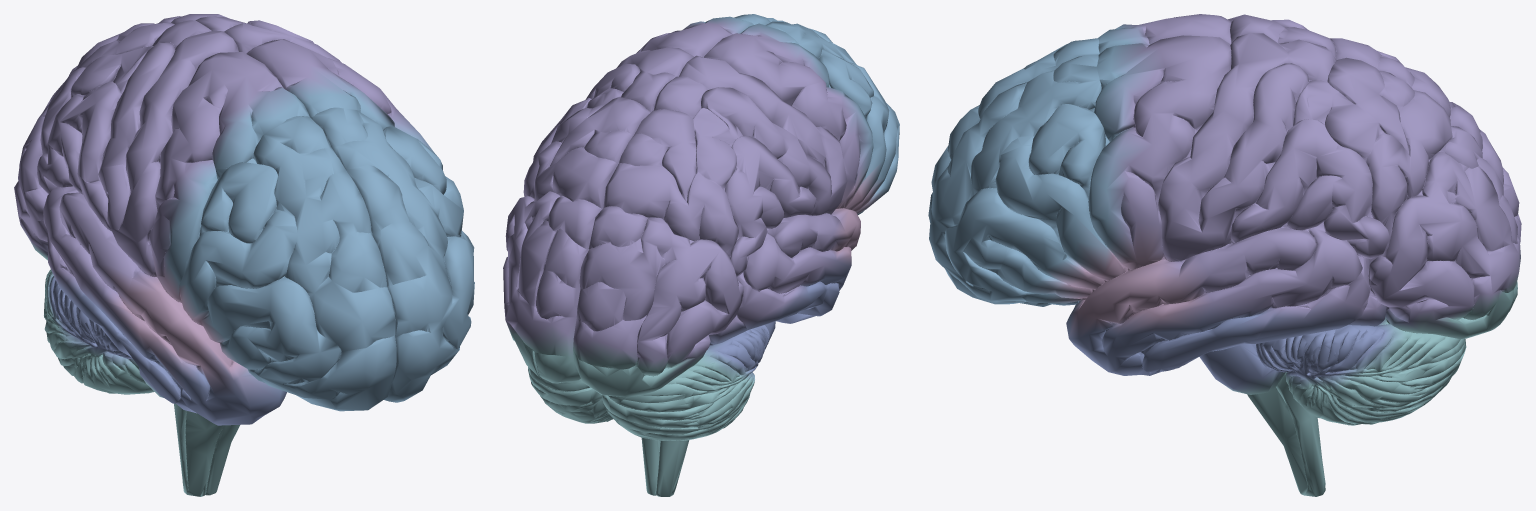
File: brain.glb
3 views of the same model, side by side, from view 1: azimuth 30°, elevation 25°; view 2: azimuth 150°, elevation 25°; view 3: azimuth 270°, elevation 25° (orthographic). The views are drawn at different scales.
Visible parts, largest first — view 1: brain; view 2: brain; view 3: brain.
Part boxes in pixels (x1,y1,x2,y2): brain: (14, 14, 474, 496); brain: (503, 14, 899, 496); brain: (928, 14, 1521, 496).
Size of the model in its own units: 1.13 by 1.72 by 2.
